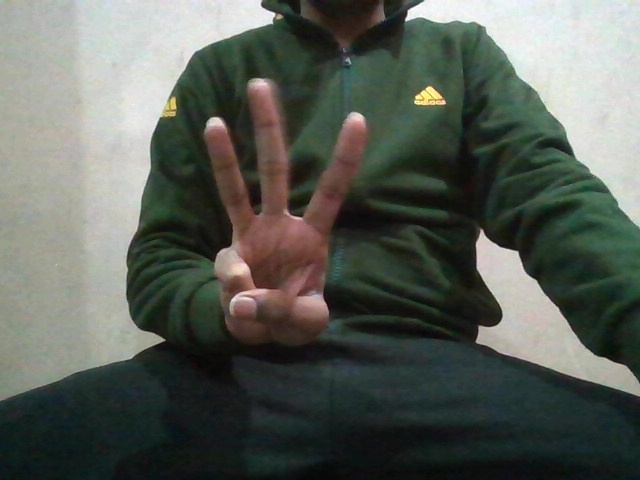W: (196, 76, 376, 347)
